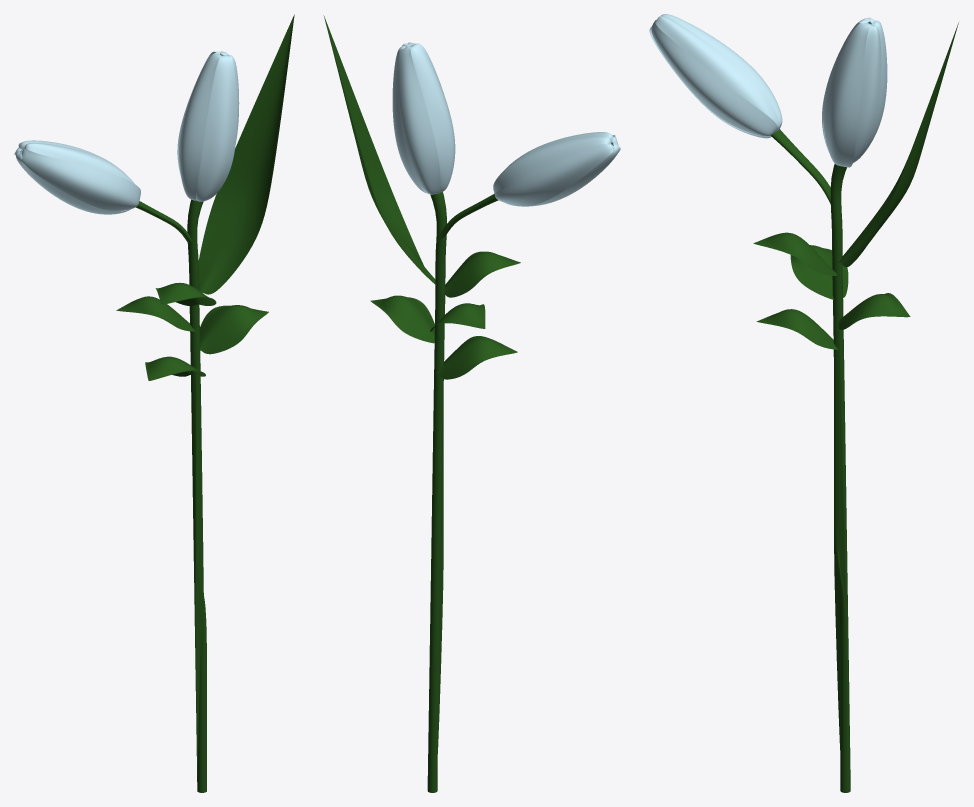
File: Lirio2C.fbx
The picture shows the model from 3 angles, left to right: view 1: azimuth 30°, elevation 25°; view 2: azimuth 150°, elevation 25°; view 3: azimuth 330°, elevation 25°; orthographic projection. The views are drawn at different scales.
Parts seen in each view (by area): view 1: Bigger Leaf, Stem.001, Petal.004, Petal.007, Petal.001, Leaf, Petal.006, Leaf.002, Leaf.001, Leaf.003, Petal.010; view 2: Stem.001, Bigger Leaf, Petal.002, Petal.009, Petal.001, Petal.008, Leaf, Leaf.003, Leaf.001, Petal.003, Leaf.002, Petal.010; view 3: Stem.001, Petal.004, Petal.007, Petal.006, Bigger Leaf, Petal.005, Leaf.002, Leaf.001, Leaf.003, Leaf, Petal.008, Stem (+1 smaller).
Boxes of the visible parts, x1=… form: Bigger Leaf: x1=198, y1=14, x2=294, y2=294; Stem.001: x1=187, y1=199, x2=206, y2=792; Petal.004: x1=196, y1=55, x2=236, y2=201; Petal.007: x1=21, y1=149, x2=140, y2=211; Petal.001: x1=179, y1=52, x2=221, y2=200; Leaf: x1=199, y1=305, x2=268, y2=354; Petal.006: x1=24, y1=143, x2=134, y2=183; Leaf.002: x1=116, y1=296, x2=195, y2=331; Leaf.001: x1=155, y1=282, x2=216, y2=305; Leaf.003: x1=145, y1=356, x2=205, y2=380; Petal.010: x1=16, y1=152, x2=130, y2=214; Stem.001: x1=427, y1=191, x2=446, y2=792; Bigger Leaf: x1=323, y1=15, x2=435, y2=284; Petal.002: x1=397, y1=46, x2=440, y2=194; Petal.009: x1=495, y1=143, x2=613, y2=206; Petal.001: x1=410, y1=43, x2=455, y2=192; Petal.008: x1=493, y1=135, x2=611, y2=194; Leaf: x1=370, y1=295, x2=435, y2=343; Leaf.003: x1=435, y1=336, x2=517, y2=379; Leaf.001: x1=445, y1=251, x2=520, y2=297; Petal.003: x1=392, y1=45, x2=428, y2=193; Leaf.002: x1=430, y1=303, x2=485, y2=331; Petal.010: x1=506, y1=145, x2=620, y2=206; Stem.001: x1=830, y1=164, x2=850, y2=792; Petal.004: x1=823, y1=22, x2=871, y2=167; Petal.007: x1=651, y1=20, x2=777, y2=136; Petal.006: x1=655, y1=16, x2=779, y2=130; Bigger Leaf: x1=838, y1=22, x2=958, y2=267; Petal.005: x1=853, y1=25, x2=881, y2=162; Leaf.002: x1=790, y1=245, x2=848, y2=299; Leaf.001: x1=753, y1=232, x2=837, y2=275; Leaf.003: x1=756, y1=309, x2=838, y2=349; Leaf: x1=838, y1=293, x2=910, y2=329; Petal.008: x1=661, y1=14, x2=782, y2=128; Stem: x1=771, y1=129, x2=830, y2=204.
Bounding box in the file's own units: 520 × 1312 × 155.
Materials: 17 (17 with a texture image).
